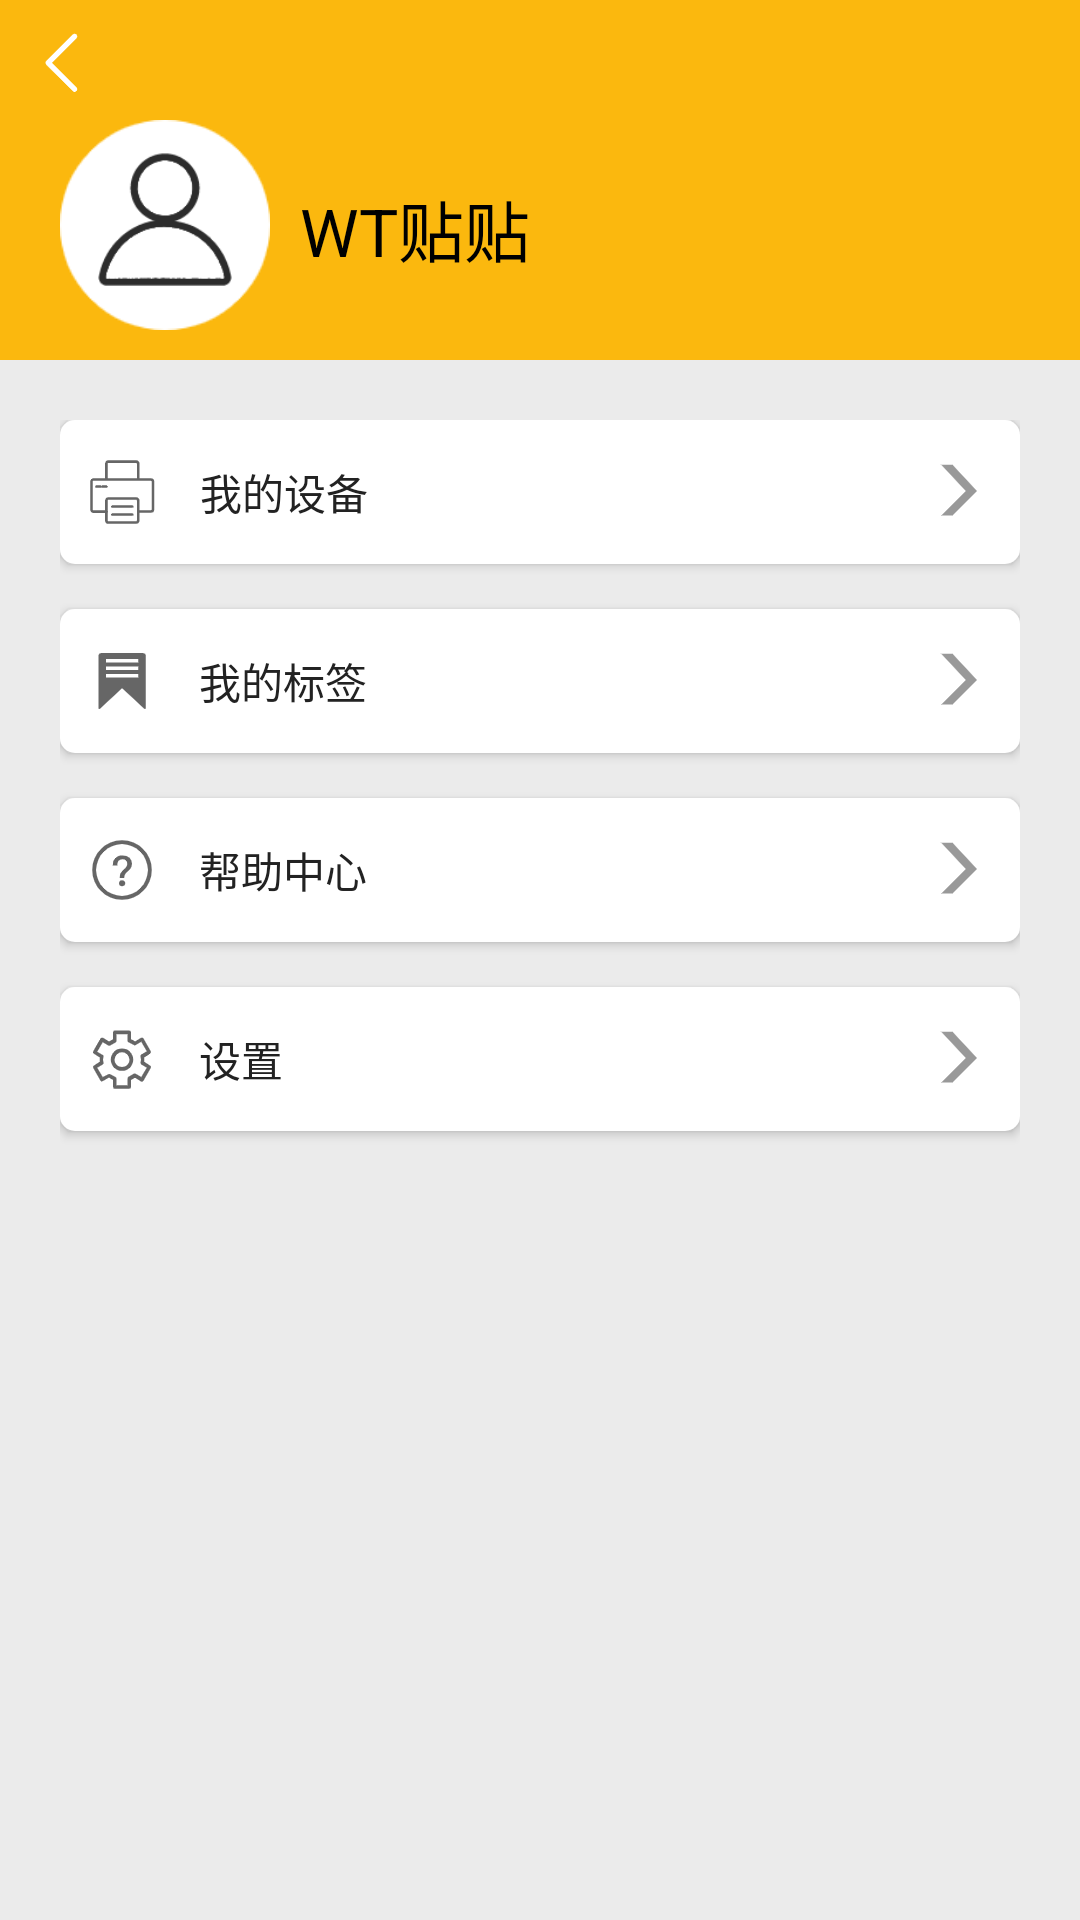

Where to tap for icons on this 1080px×1920px app screen, as [x,y]:
backlast: [61,62]
meblack: [165,219]
